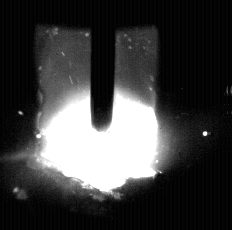arame: (92, 0, 115, 131)
poca: (36, 0, 159, 230)
